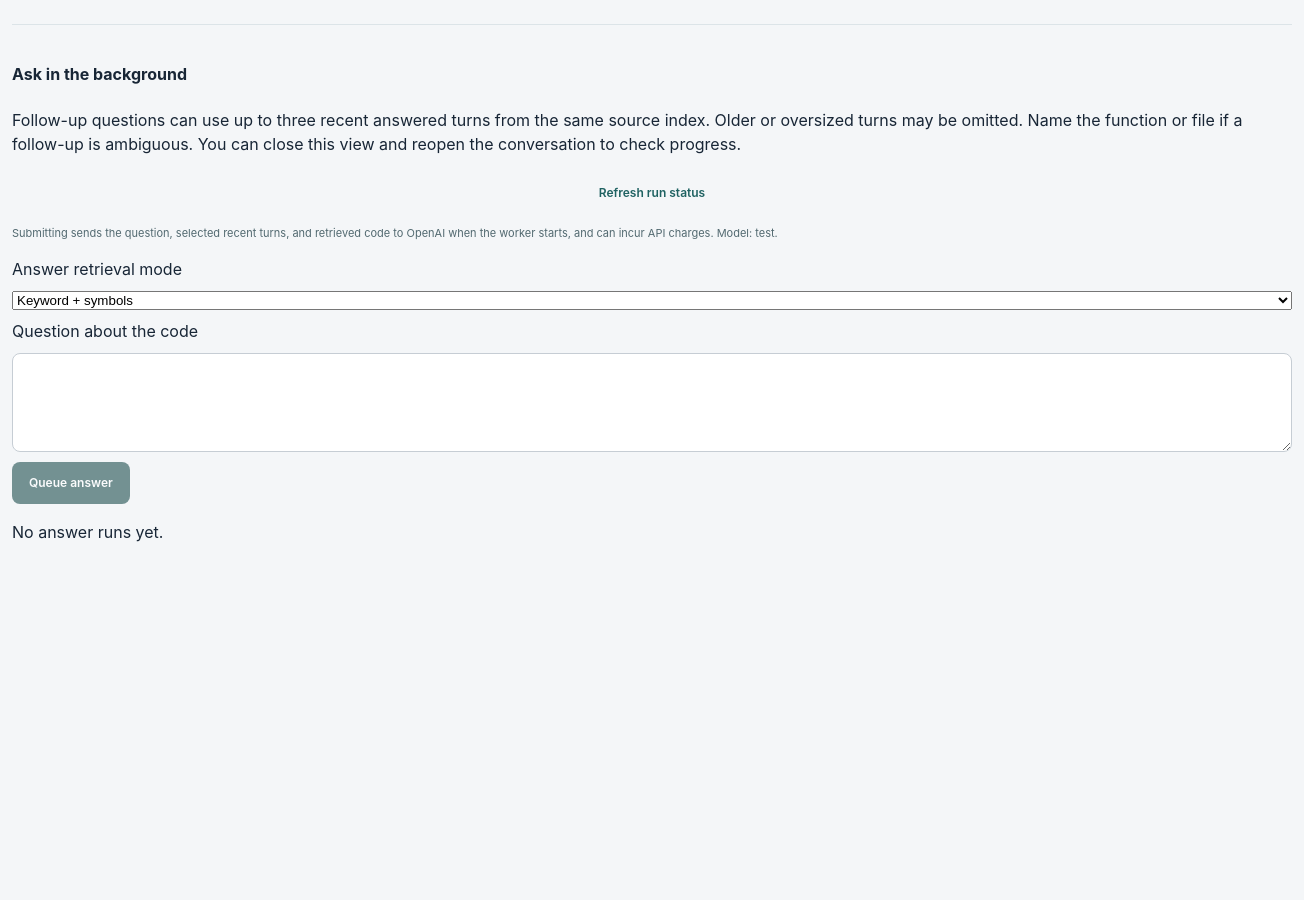
it: durable answer UI › reuses the exact idempotency key after an uncertain submission
Expected: the text "No answer runs yet." is shown, [12,522,163,542]
In the text box labelled "Question about the code": (652,403) [12,353,1292,452], type "How does check work?"
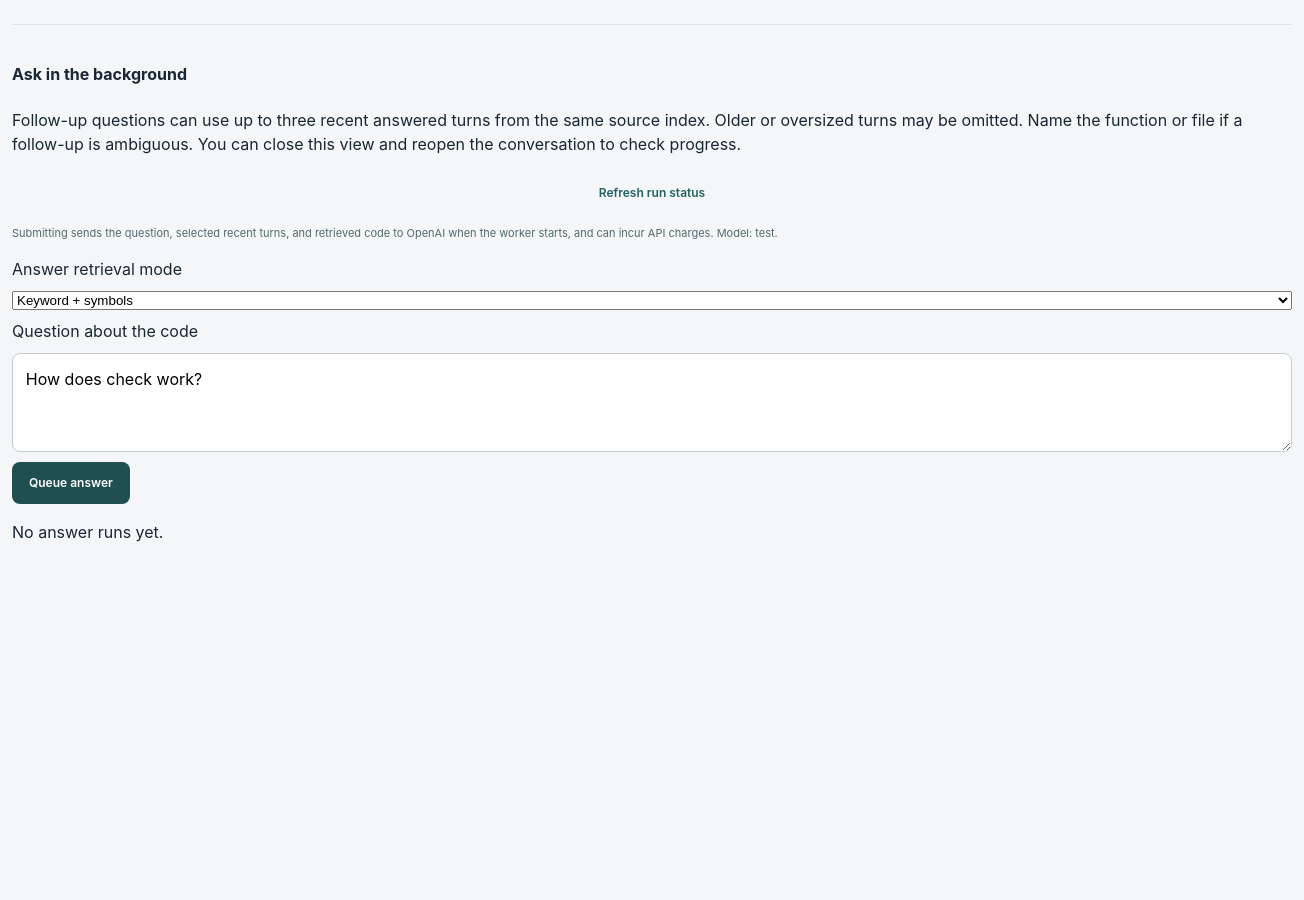
Click the button "Queue answer": (71,483) [12,462,130,504]
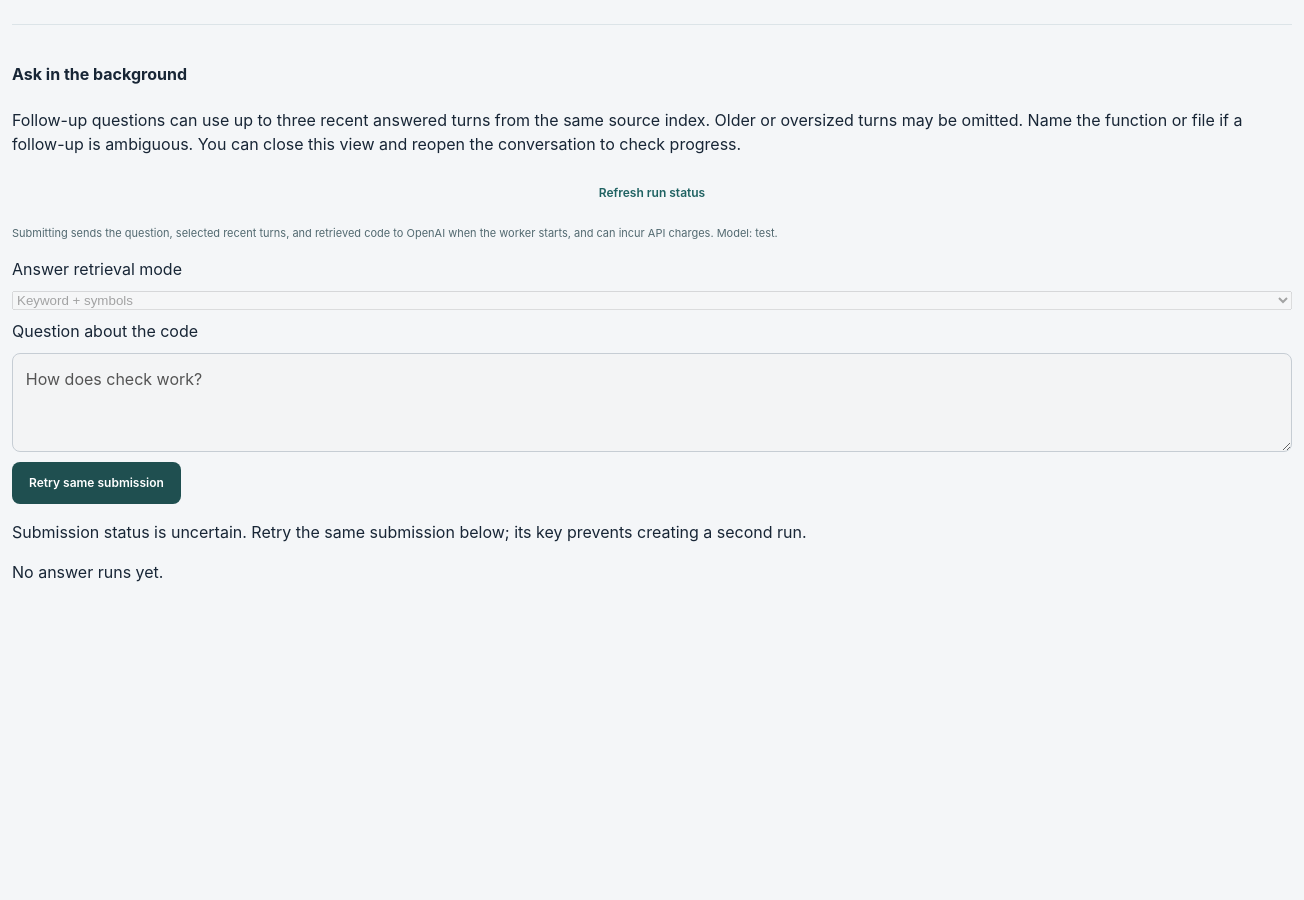
Expected: the message shows "Submission status is uncertain", [12,522,807,542]
Click the button "Retry same submission": (96,483) [12,462,181,504]
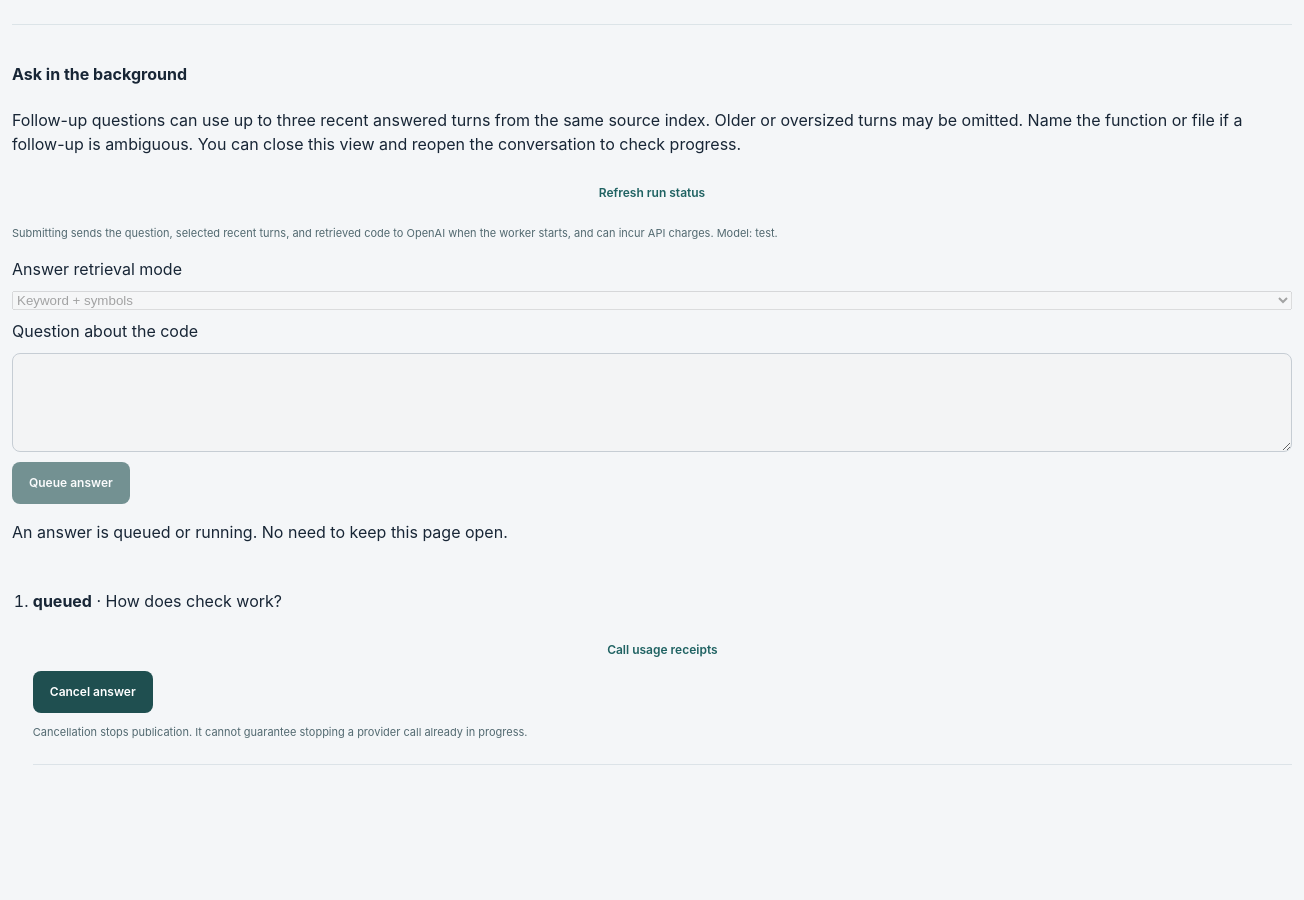
Expected: the text "An answer is queued or running. No need to keep this page open." is shown, [12,522,508,542]
